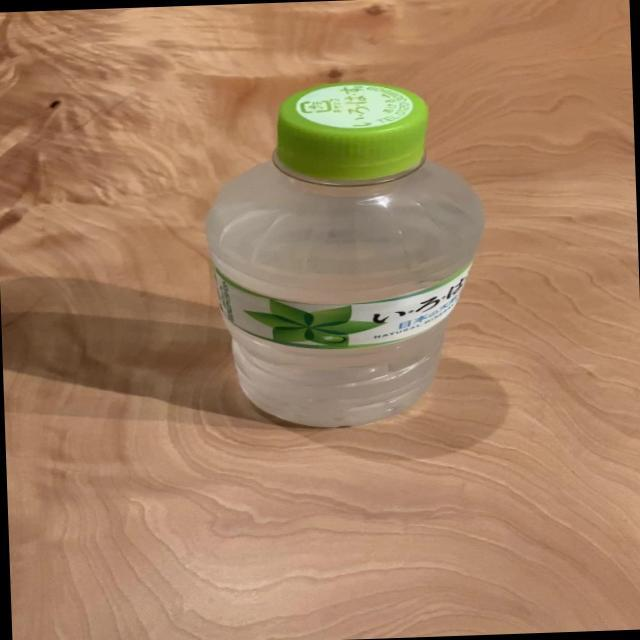good: (196, 74, 493, 432)
